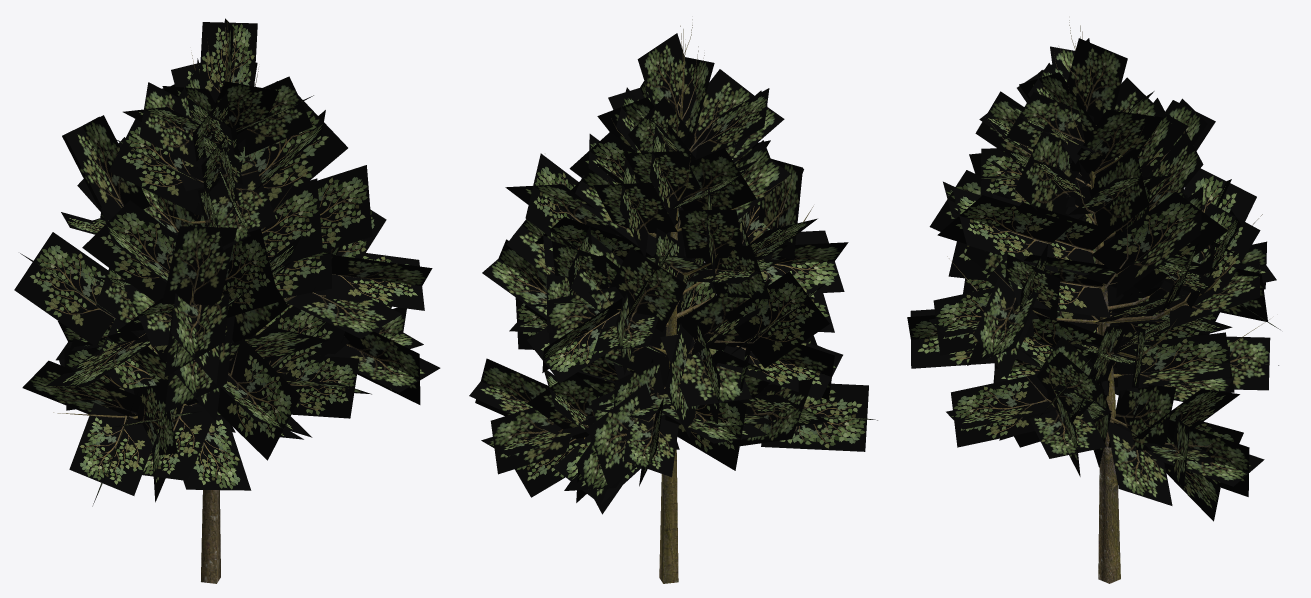
Rendered from tree002-2.obj.
The picture shows the model from 3 angles, left to right: view 1: azimuth 30°, elevation 25°; view 2: azimuth 150°, elevation 25°; view 3: azimuth 270°, elevation 25°; orthographic projection. The views are drawn at different scales.
Parts seen in each view (by area): view 1: branch.000_Плоскость.003, branch.019_Плоскость.025, branch.005_Плоскость.090, branch.008_Плоскость.012, branch.010_Плоскость.094, branch.036_Плоскость.042, branch.084_Плоскость.085, branch.039_Плоскость.045, branch.057_Плоскость.063, branch.003_Плоскость.093, branch.091_Плоскость.098, branch.077_Плоскость.077 (+30 smaller); view 2: branch.000_Плоскость.003, branch.008_Плоскость.012, tree_Mesh, branch.071_Плоскость.001, branch.083_Плоскость.083, branch.002_Плоскость.092, branch.043_Плоскость.049, branch.001_Плоскость.005, branch.053_Плоскость.059, branch.012_Плоскость.016, branch.091_Плоскость.098, branch.079_Плоскость.079 (+43 smaller); view 3: branch.083_Плоскость.083, branch.003_Плоскость.093, tree_Mesh, branch.077_Плоскость.077, branch.041_Плоскость.047, branch.010_Плоскость.094, branch.054_Плоскость.060, branch.036_Плоскость.042, branch.063_Плоскость.069, branch.071_Плоскость.001, branch.069_Плоскость.075, branch.067_Плоскость.073 (+43 smaller).
Part boxes in pixels (bbox=[...]): branch.000_Плоскость.003: bbox=[14, 232, 126, 346]; branch.019_Плоскость.025: bbox=[217, 339, 312, 460]; branch.005_Плоскость.090: bbox=[82, 200, 177, 302]; branch.008_Плоскость.012: bbox=[69, 393, 152, 506]; branch.010_Плоскость.094: bbox=[216, 95, 347, 210]; branch.036_Плоскость.042: bbox=[325, 253, 432, 310]; branch.084_Плоскость.085: bbox=[162, 226, 237, 304]; branch.039_Плоскость.045: bbox=[62, 115, 150, 217]; branch.057_Плоскость.063: bbox=[109, 119, 212, 212]; branch.003_Плоскость.093: bbox=[282, 165, 372, 265]; branch.091_Плоскость.098: bbox=[164, 293, 229, 384]; branch.077_Плоскость.077: bbox=[324, 331, 440, 404]; branch.000_Плоскость.003: bbox=[724, 271, 829, 368]; branch.008_Плоскость.012: bbox=[761, 383, 877, 451]; tree_Mesh: bbox=[497, 19, 843, 583]; branch.071_Плоскость.001: bbox=[481, 407, 585, 474]; branch.083_Плоскость.083: bbox=[505, 153, 617, 241]; branch.002_Плоскость.092: bbox=[717, 341, 842, 399]; branch.043_Плоскость.049: bbox=[609, 242, 686, 332]; branch.001_Плоскость.005: bbox=[660, 308, 751, 427]; branch.053_Плоскость.059: bbox=[593, 157, 677, 256]; branch.012_Плоскость.016: bbox=[662, 363, 767, 470]; branch.091_Плоскость.098: bbox=[761, 230, 848, 293]; branch.079_Плоскость.079: bbox=[527, 298, 631, 382]; branch.083_Плоскость.083: bbox=[1091, 186, 1227, 297]; branch.003_Плоскость.093: bbox=[937, 186, 1074, 273]; tree_Mesh: bbox=[947, 20, 1269, 583]; branch.077_Плоскость.077: bbox=[946, 374, 1056, 447]; branch.041_Плоскость.047: bbox=[1116, 332, 1234, 398]; branch.010_Плоскость.094: bbox=[1000, 125, 1101, 214]; branch.054_Плоскость.060: bbox=[1068, 147, 1168, 241]; branch.036_Плоскость.042: bbox=[967, 272, 1038, 378]; branch.063_Плоскость.069: bbox=[1067, 38, 1127, 124]; branch.071_Плоскость.001: bbox=[1149, 420, 1264, 496]; branch.069_Плоскость.075: bbox=[1069, 110, 1163, 174]; branch.067_Плоскость.073: bbox=[1160, 203, 1260, 308].
Bounding box in the file's own units: 17.45 × 26.53 × 16.63.
2 materials, 2 textured.
